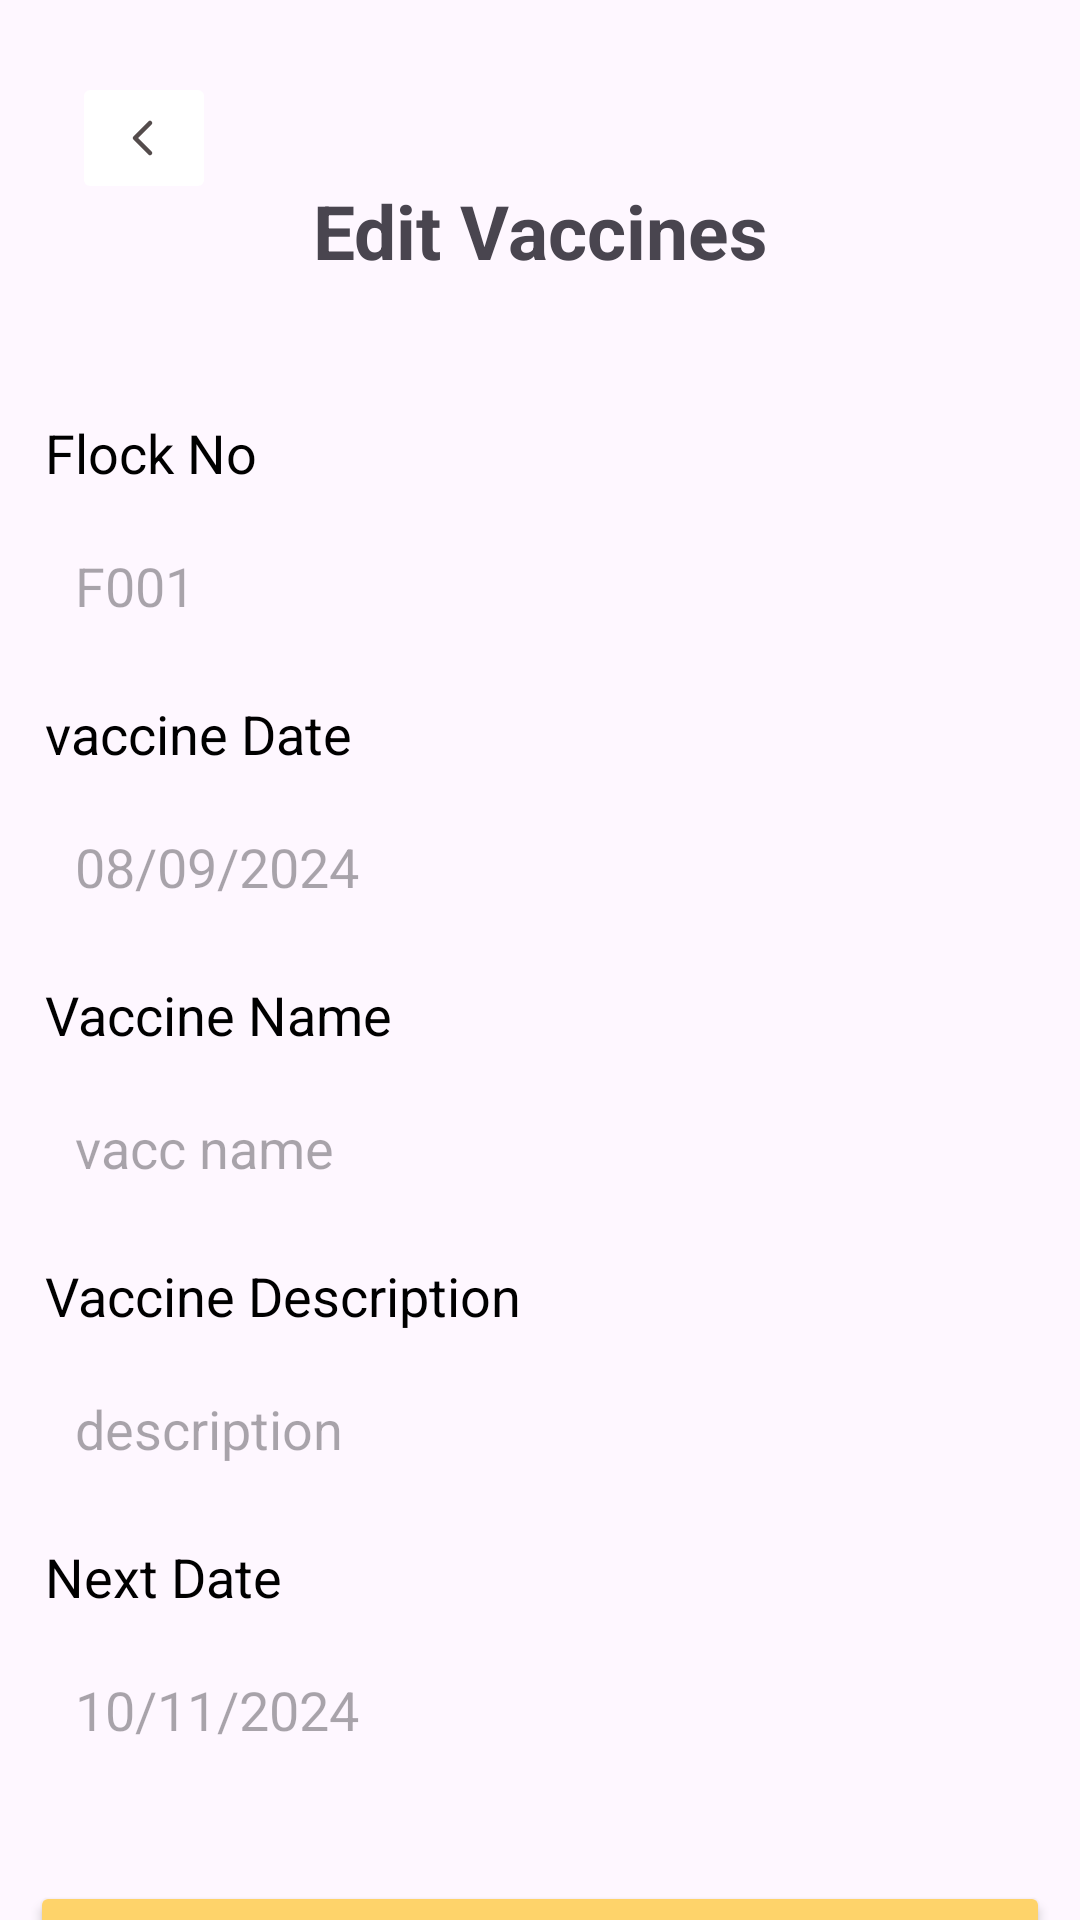

Icon click points for this 1080w x 1920h phone screenshot, format (x=x, y=y):
leftdirect: (x=142, y=138)
